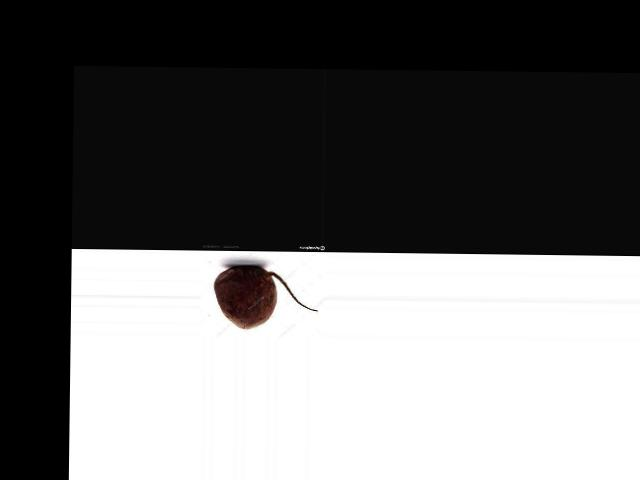beet: (213, 265, 317, 328)
